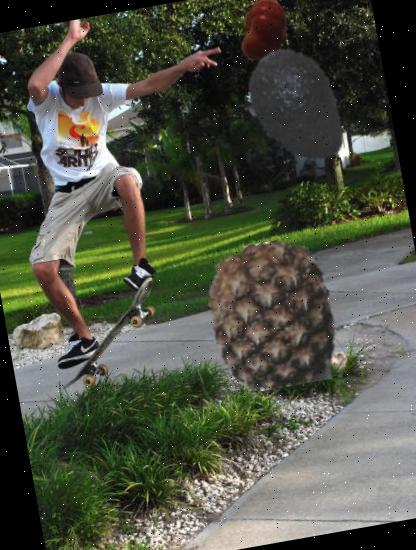Avocado: (225, 38, 367, 180)
Pineapple: (187, 230, 358, 400)
Tomato: (226, 0, 301, 67)
